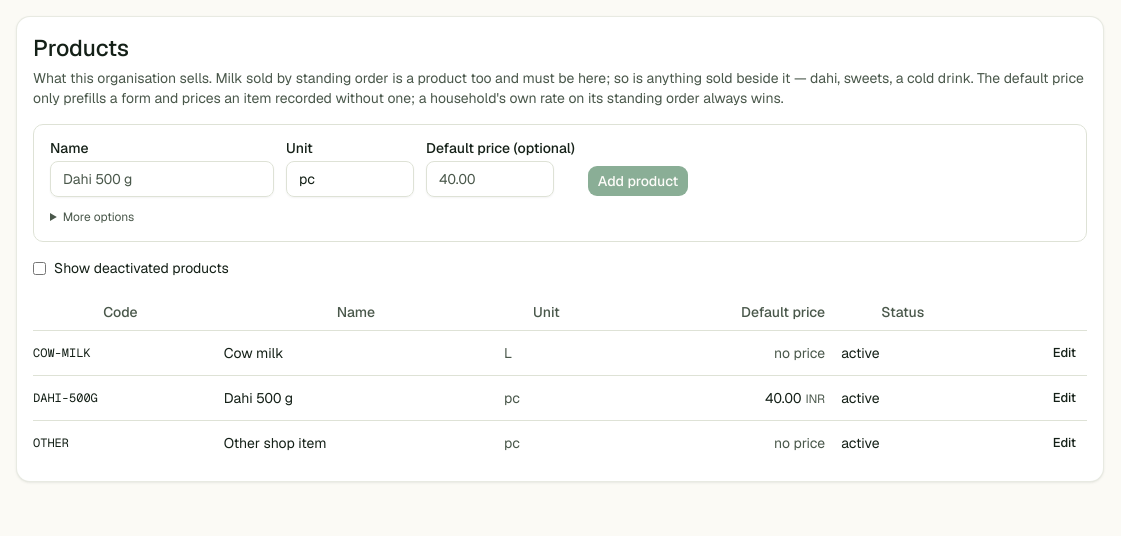
Test: Admin → Products › adds a product with a price as a STRING, and no code — the platform spells it (WO-107)
Expected: the text "Dahi 500 g" is shown, [224, 376, 504, 421]
In the field labelled "Name": (162, 179) [50, 161, 274, 197], type "Shrikhand"
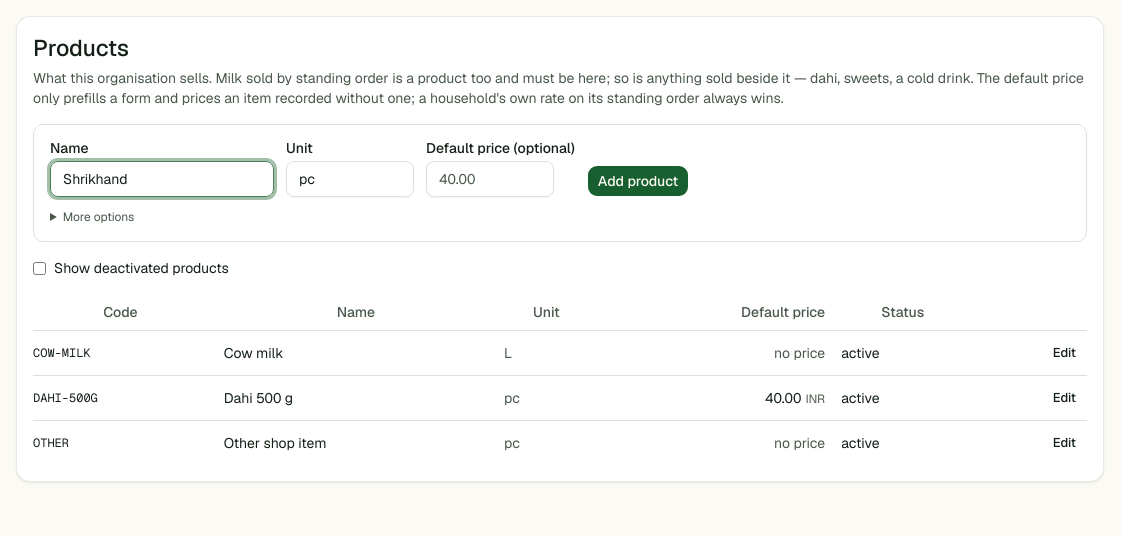
In the field labelled "Default price (optional)": (490, 179) [426, 161, 554, 197], type "60.00"
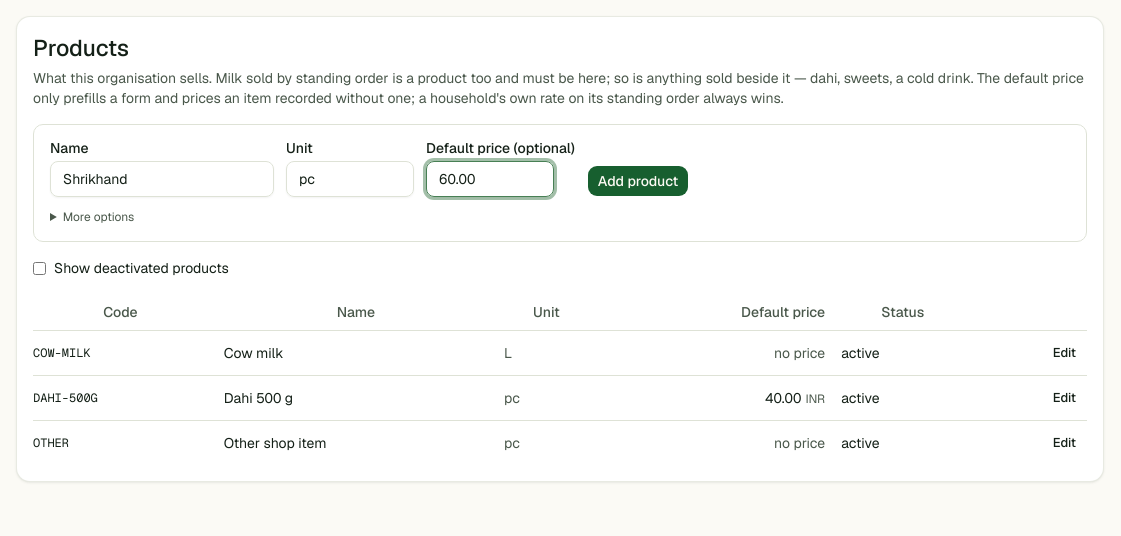
Click the button "Add product": (638, 181) [587, 165, 689, 197]
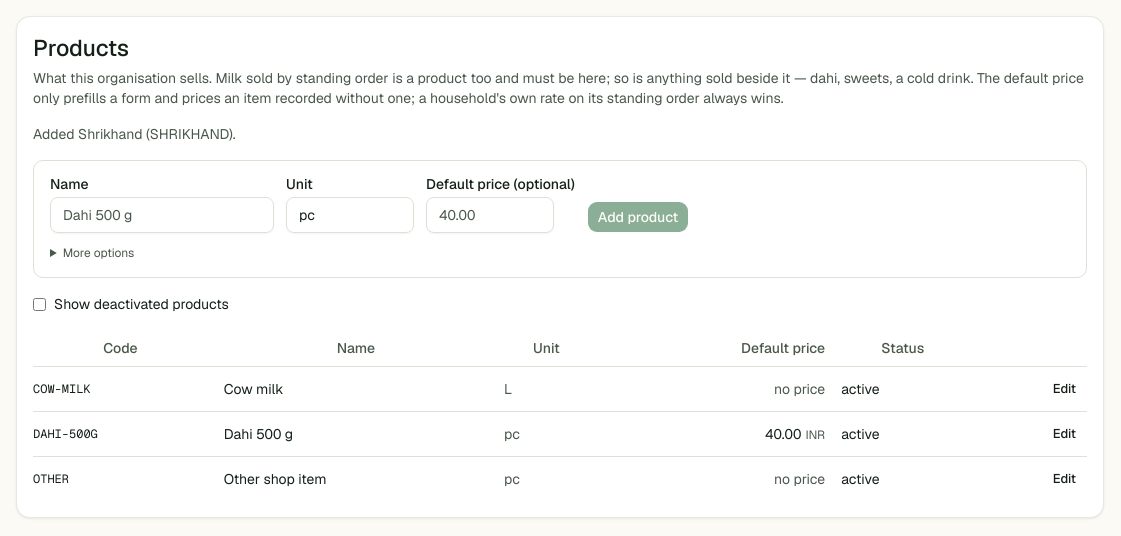
Now the message shows "Added Shrikhand (SHRIKHAND)", box [33, 125, 236, 143]
